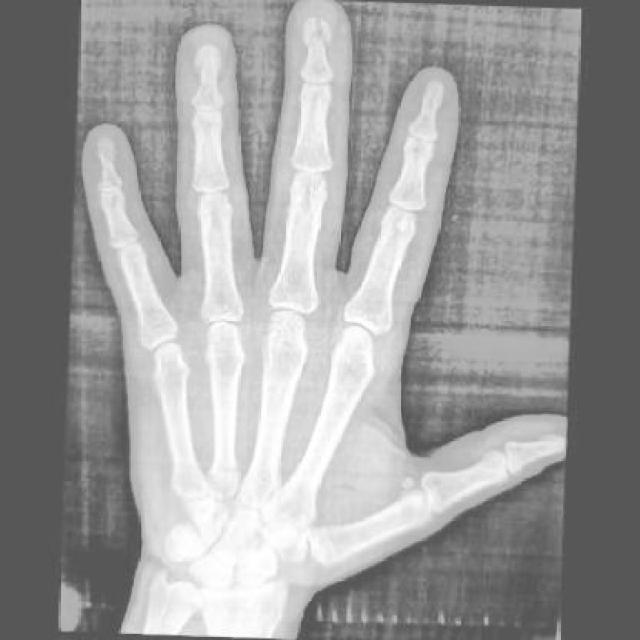Fracture: (196, 40, 230, 77), (303, 17, 337, 51), (422, 82, 450, 111), (99, 135, 122, 163)
